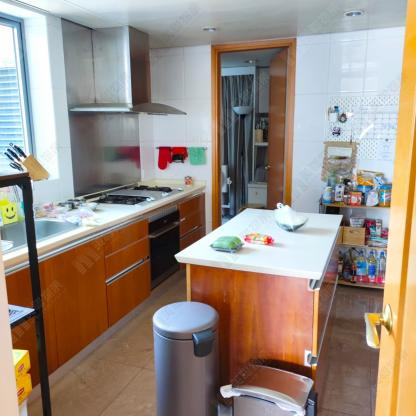Cupboard: (36, 216, 149, 377)
Exhaust Hood: (71, 26, 188, 114)
Oven: (149, 205, 183, 290)
Stove: (88, 185, 186, 204)
